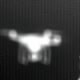plane: (1, 26, 64, 65)
